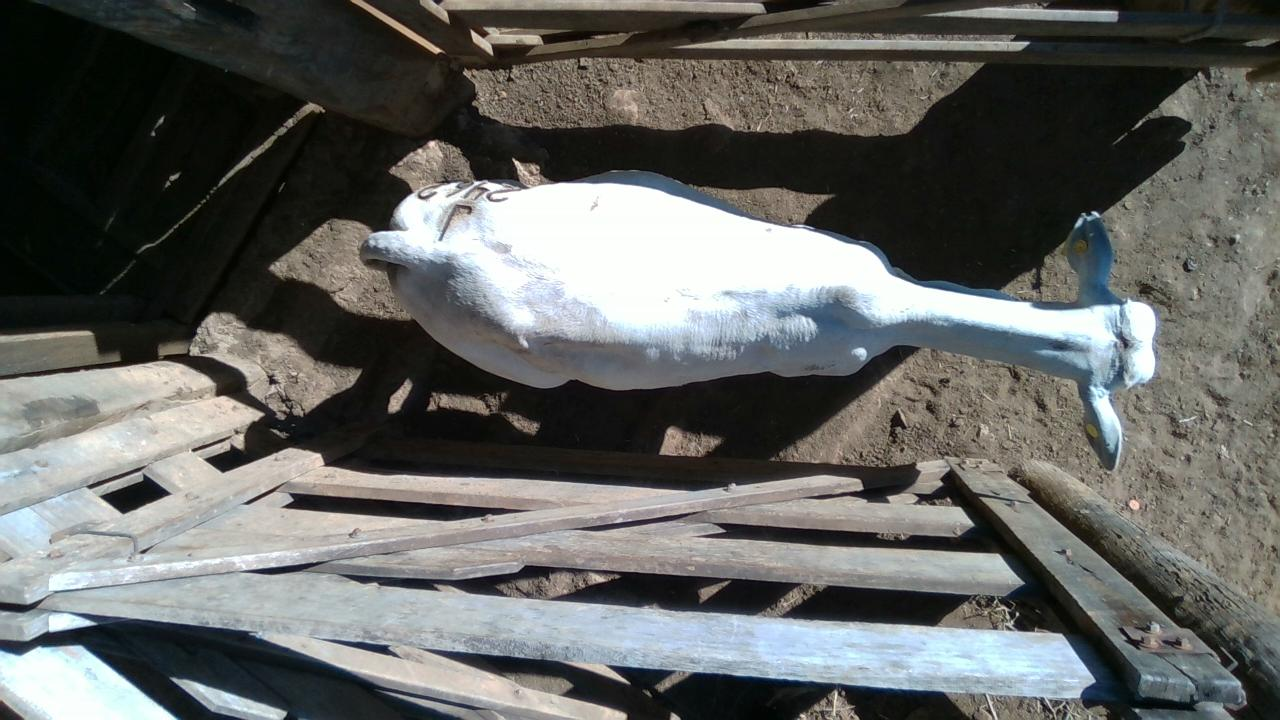cattle: (357, 170, 1158, 471)
